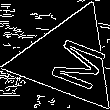M_W: (34, 29, 102, 90)
